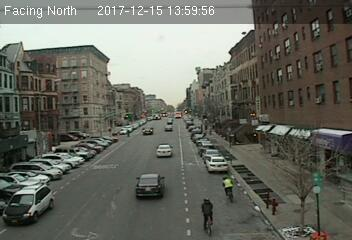bicycle: (201, 198, 215, 235), (220, 176, 236, 204)
car: (4, 185, 54, 224), (135, 173, 165, 198), (156, 143, 174, 158)
